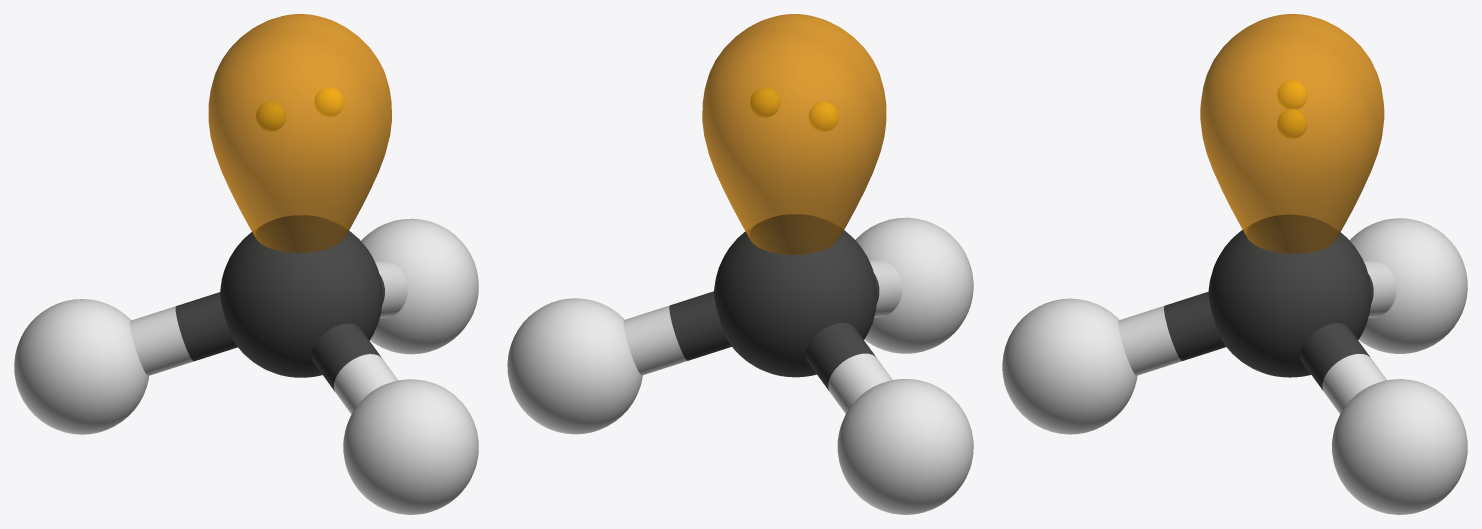
3 renders of one model, left to right at view 1: azimuth 30°, elevation 25°; view 2: azimuth 150°, elevation 25°; view 3: azimuth 270°, elevation 25°, orthographic.
Visible parts, largest first — view 1: D4; view 2: D4; view 3: D4.
Boxes of the visible parts, bbox=[...] form: D4: bbox=[14, 14, 478, 514]; D4: bbox=[507, 14, 973, 514]; D4: bbox=[1002, 14, 1467, 514].
Size of the model in its own units: 20.48 by 17.8 by 18.45.
